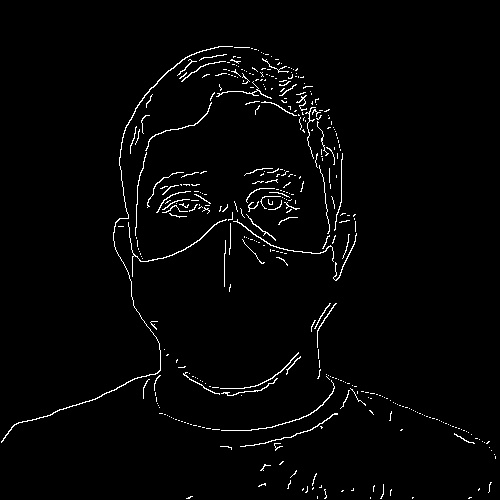mask: (123, 224, 347, 398)
